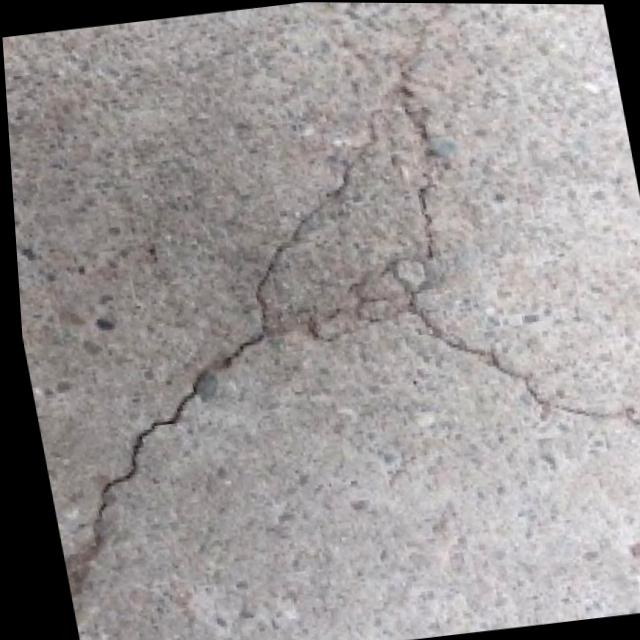Crack: (2, 30, 640, 607)
